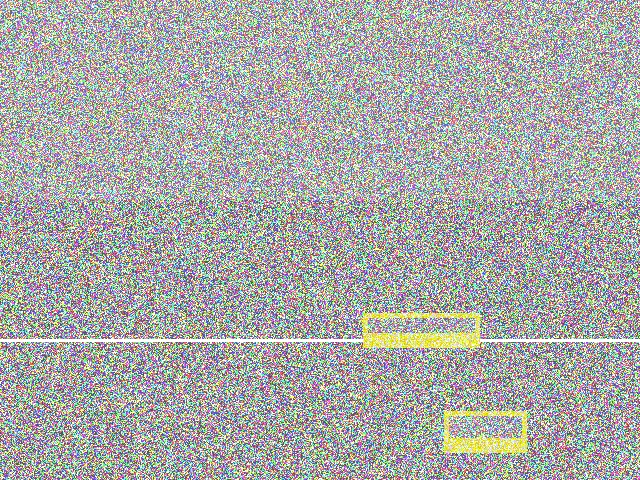bus: (245, 83, 430, 206)
motorcycle: (274, 216, 358, 317)
truck: (409, 206, 585, 336)
